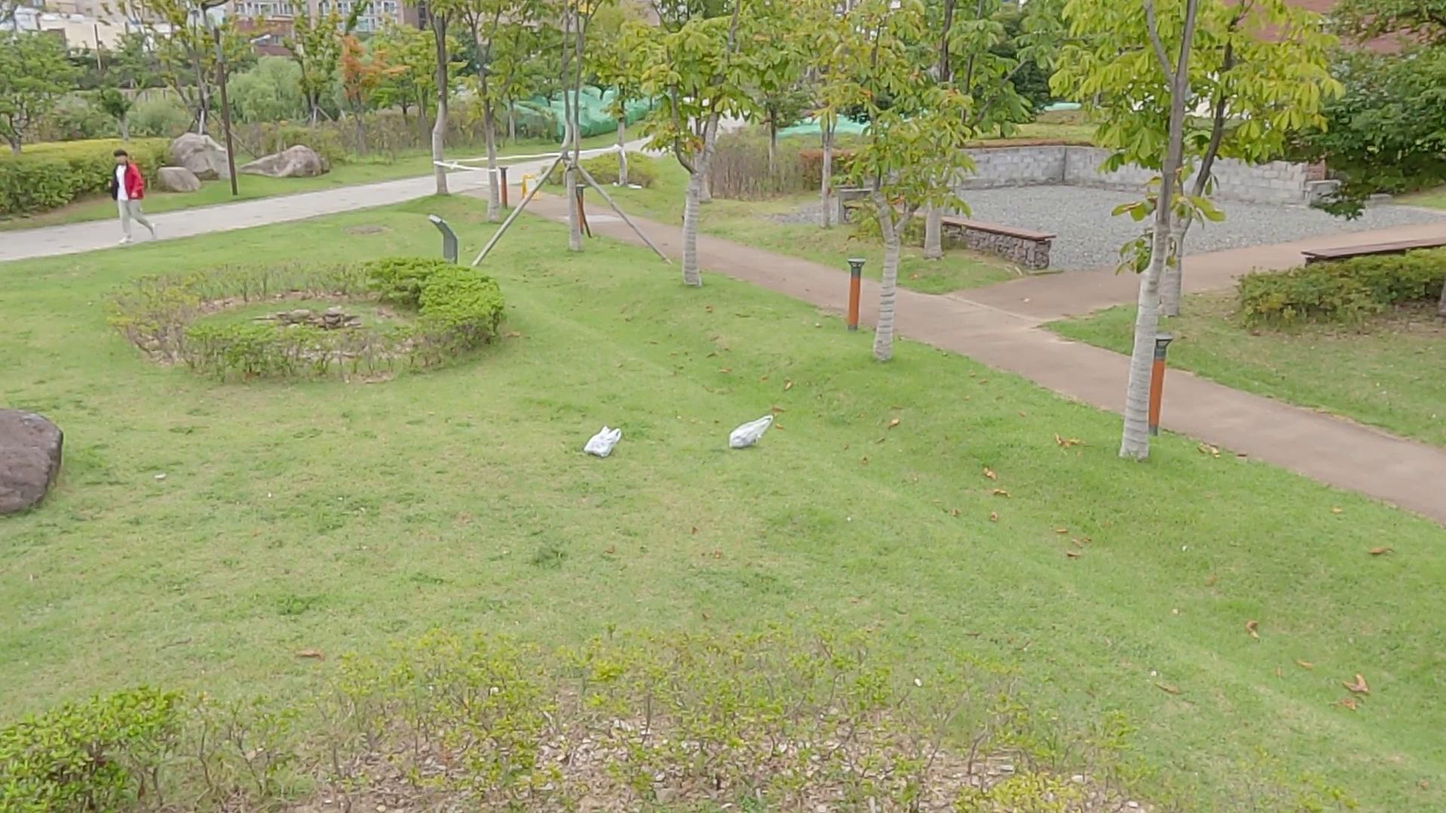person: (107, 147, 157, 250)
trash: (729, 414, 777, 449), (587, 424, 620, 454)
